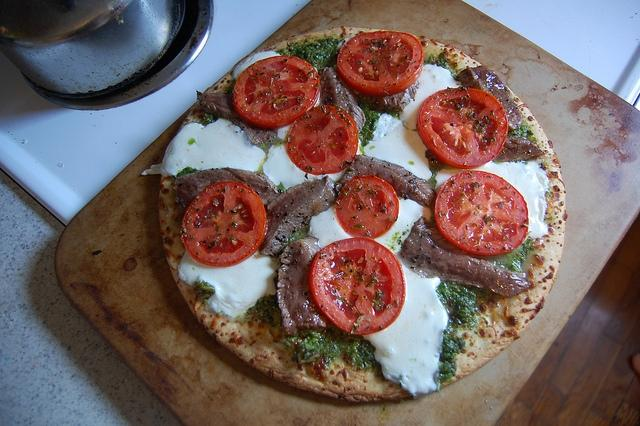tomato: (308, 238, 406, 336), (434, 170, 528, 256), (418, 86, 510, 168), (181, 180, 268, 266), (233, 55, 320, 129), (336, 31, 424, 96), (286, 106, 358, 174), (334, 175, 399, 238)
